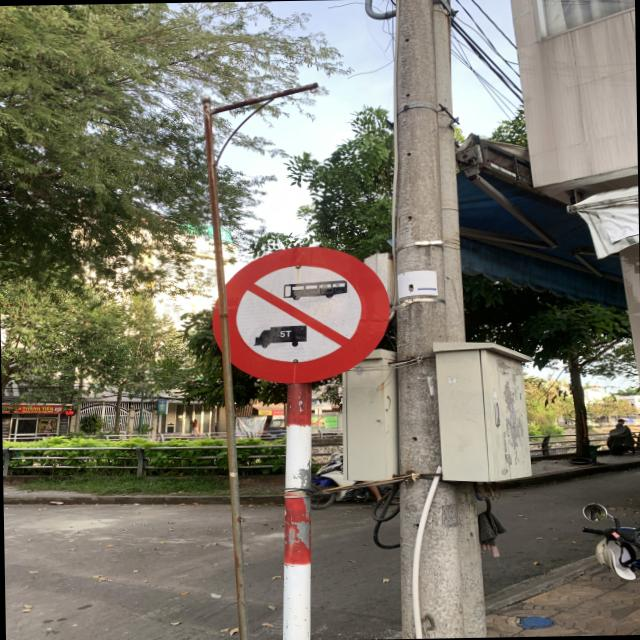Cam_XeTai_XeKhach: (214, 242, 391, 386)
